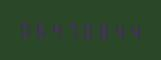eight: (97, 20, 112, 40)
four: (129, 20, 144, 41), (49, 19, 64, 39), (113, 20, 128, 40)
seven: (65, 19, 80, 39)
six: (33, 19, 48, 39)
zero: (17, 18, 32, 39), (81, 20, 96, 40)
